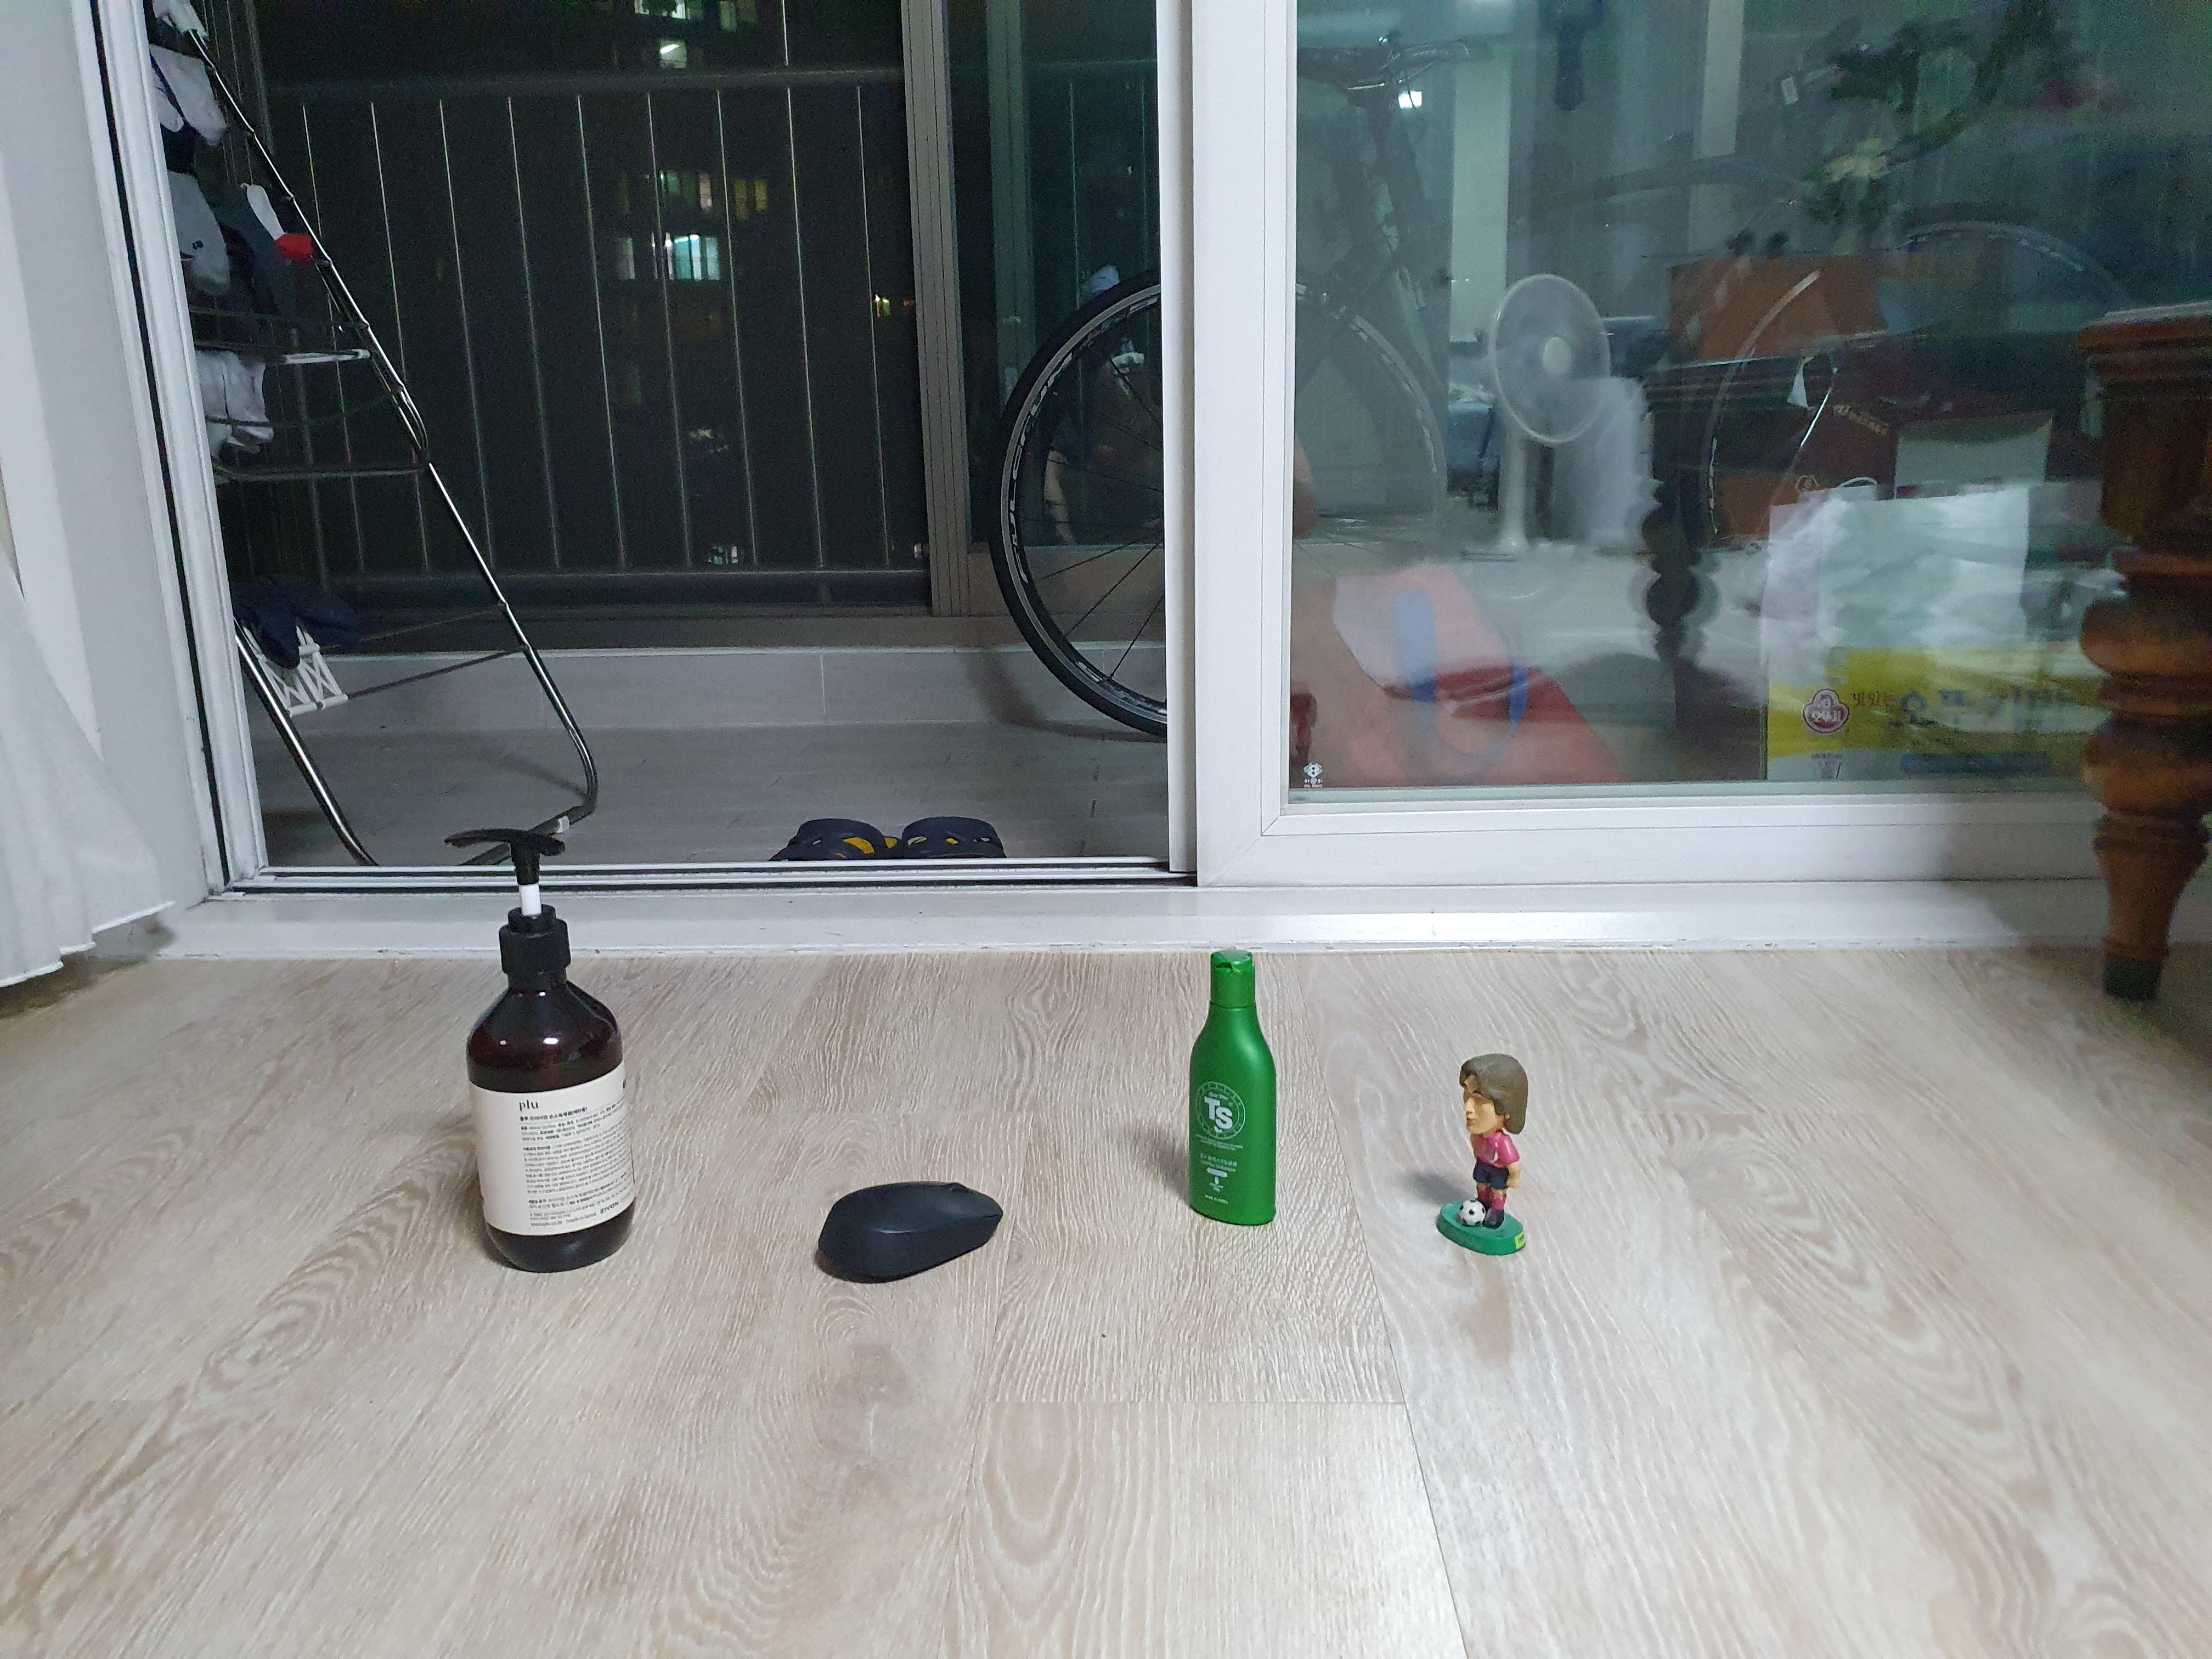bottle: (397, 795, 674, 1279)
mouse: (787, 1143, 1049, 1321)
shampoo: (1137, 945, 1338, 1251)
yoo: (1414, 1039, 1568, 1286)
